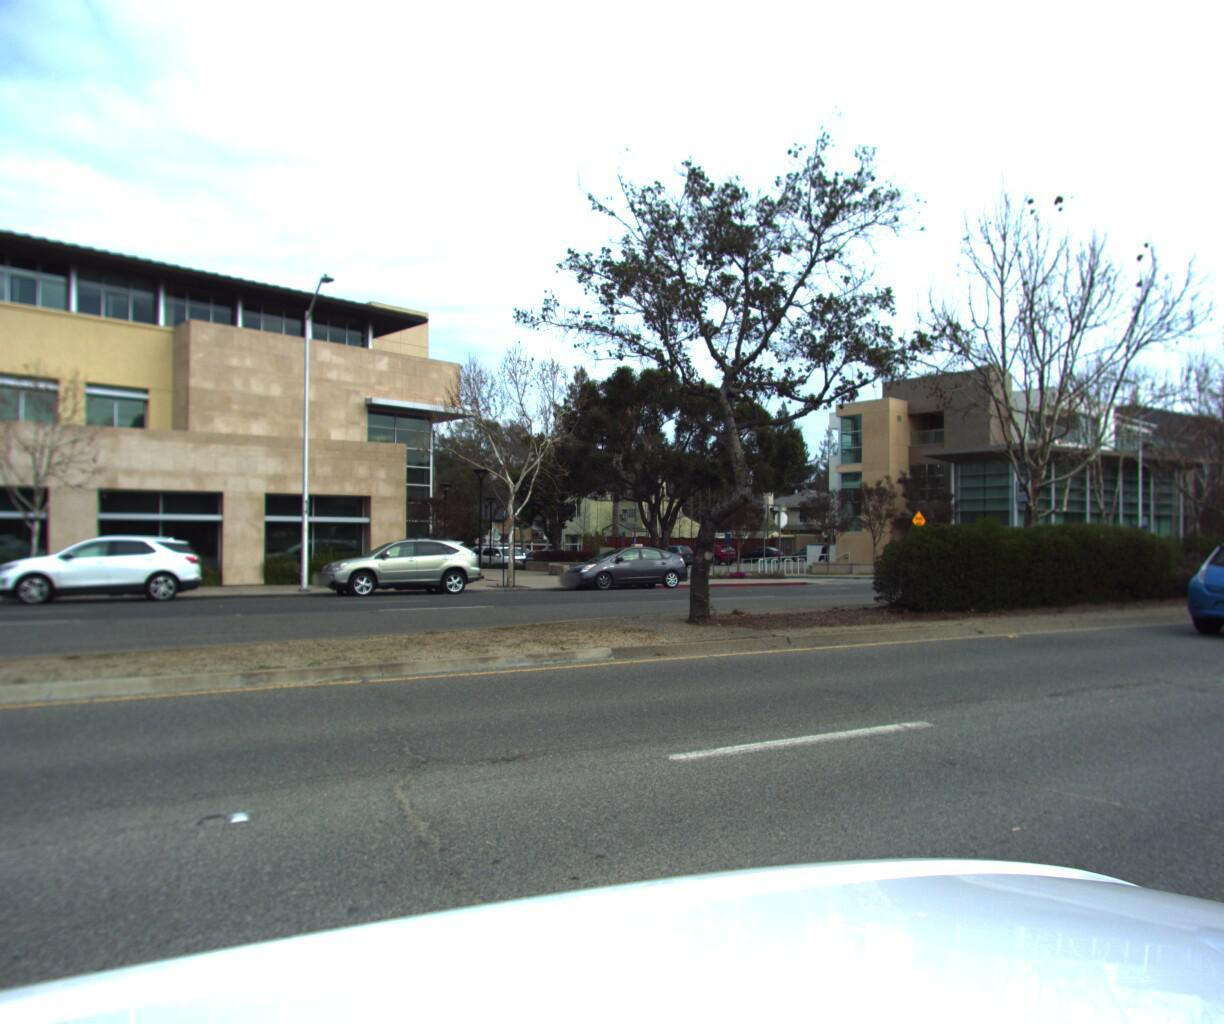car: (0, 534, 208, 615), (310, 535, 488, 600), (552, 542, 692, 593), (1175, 528, 1224, 648)
